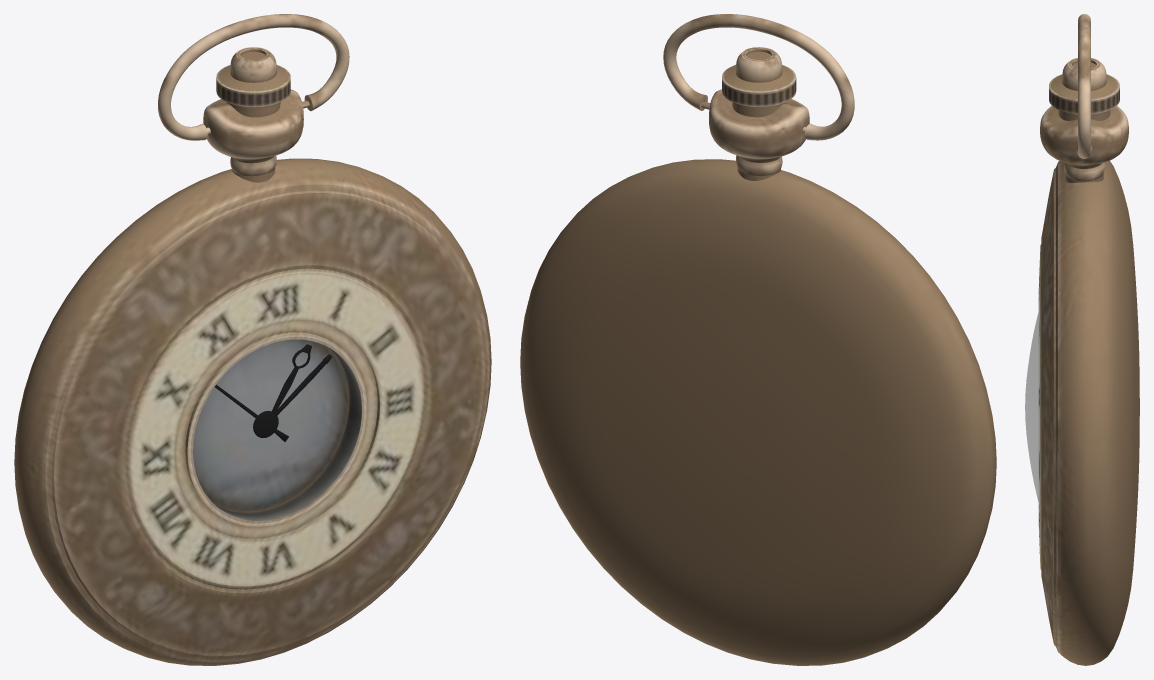
File: vintage_pocket_watch_1k.gltf
The picture shows the model from 3 angles, left to right: view 1: azimuth 30°, elevation 25°; view 2: azimuth 150°, elevation 25°; view 3: azimuth 270°, elevation 25°; orthographic projection. The views are drawn at different scales.
Visible parts, largest first — view 1: vintage_pocket_watch; view 2: vintage_pocket_watch; view 3: vintage_pocket_watch.
Boxes of the visible parts, box(x1,y1,x2,y2) form: vintage_pocket_watch: box(14, 14, 491, 665); vintage_pocket_watch: box(520, 14, 996, 665); vintage_pocket_watch: box(1025, 14, 1139, 665).
Size of the model in its own units: 0.0613 by 0.0799 by 0.0136.
Materials: 3 (1 with a texture image).
